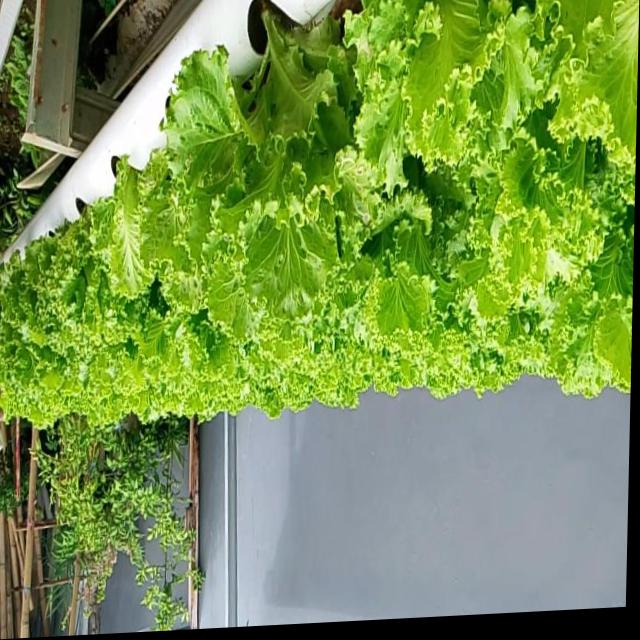Mature: (0, 0, 639, 425), (155, 0, 375, 323), (31, 183, 137, 348)
